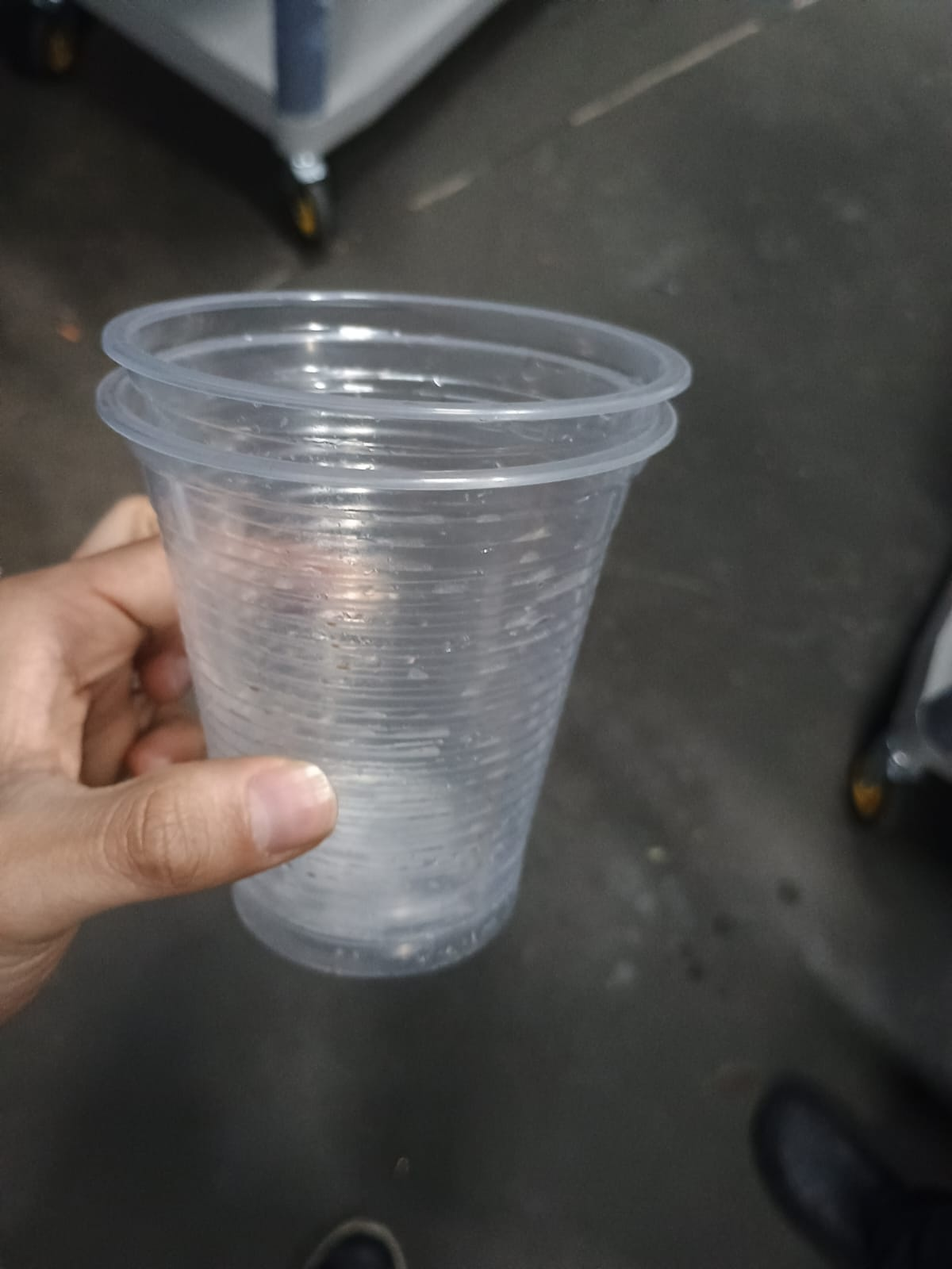Plastico: (96, 287, 692, 981)
